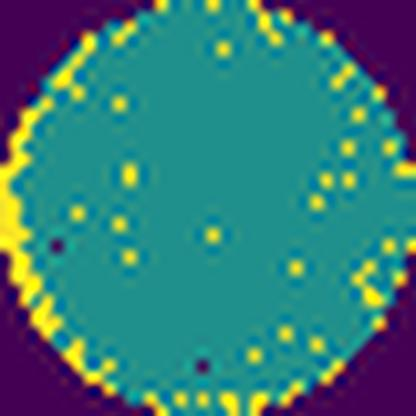Edge-Loc: (0, 98, 61, 338), (64, 338, 118, 392)
